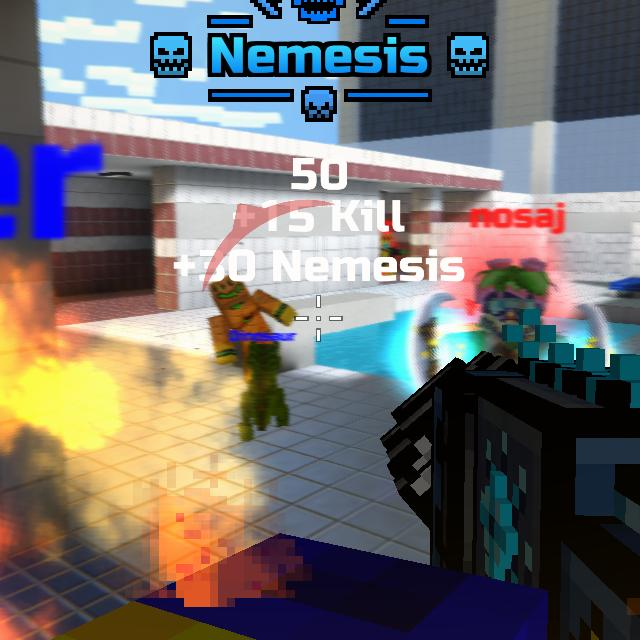Enemy: (471, 265, 550, 364), (380, 235, 398, 277)
